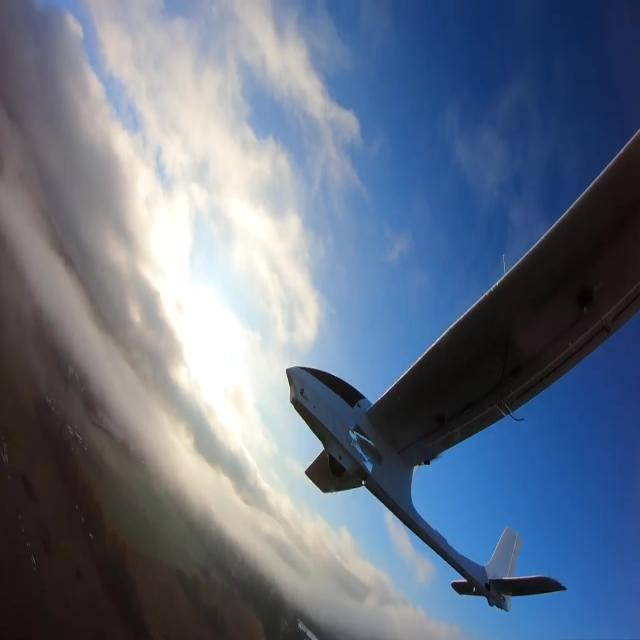iha: (282, 126, 639, 616)
